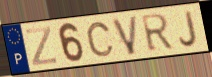6: (57, 21, 85, 65)
C: (85, 21, 116, 59)
J: (178, 9, 199, 49)
R: (140, 13, 175, 54)
V: (110, 14, 139, 57)
Z: (24, 25, 59, 68)
